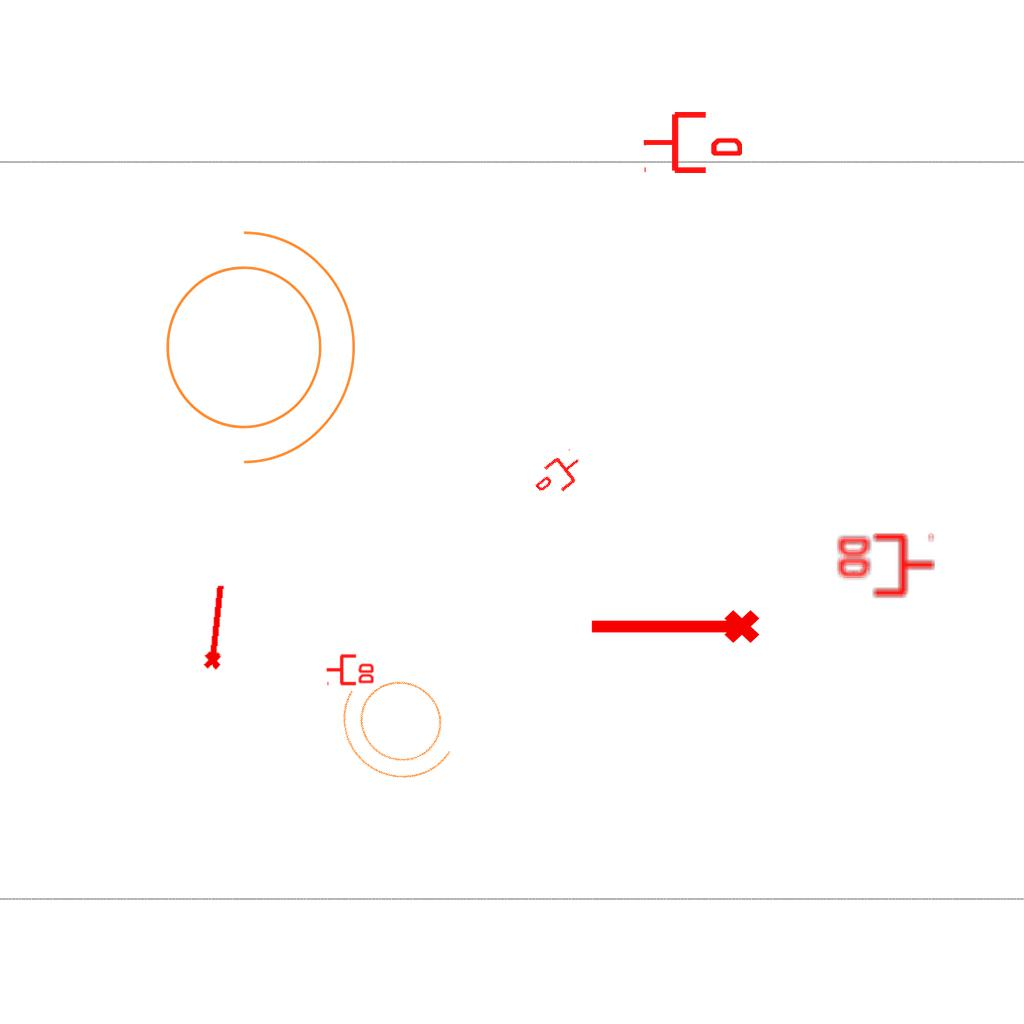ASR_Ansaugoeffnung: (586, 606, 762, 652), (198, 581, 232, 672)
Datenanschluss_einfach: (642, 108, 742, 177), (528, 446, 590, 504)
Datenanschluss_zweifach: (834, 532, 937, 601), (325, 652, 376, 686)
Scheinwerfer_fuer_Alarmbeleuchtung: (141, 209, 366, 473), (315, 644, 487, 810)
